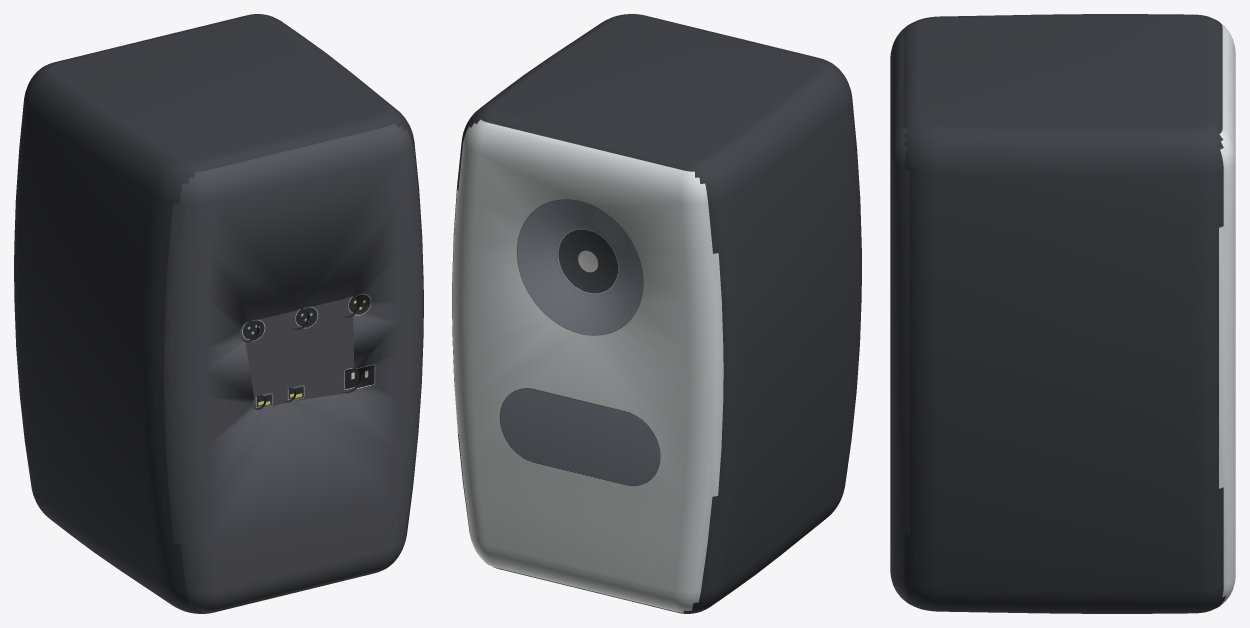
File: genelec-8351b.glb
3 renders of one model, left to right at view 1: azimuth 30°, elevation 25°; view 2: azimuth 150°, elevation 25°; view 3: azimuth 270°, elevation 25°, orthographic. The views are drawn at different scales.
Visible parts, largest first — view 1: genelec-8351b-body; view 2: genelec-8351b-body; view 3: genelec-8351b-body.
Boxes of the visible parts, left/top/right/bottom form: genelec-8351b-body: left=14, top=14, right=423, bottom=613; genelec-8351b-body: left=452, top=14, right=861, bottom=613; genelec-8351b-body: left=890, top=14, right=1235, bottom=613.
Size of the model in its own units: 0.287 by 0.433 by 0.278.
1 material, 1 textured.
